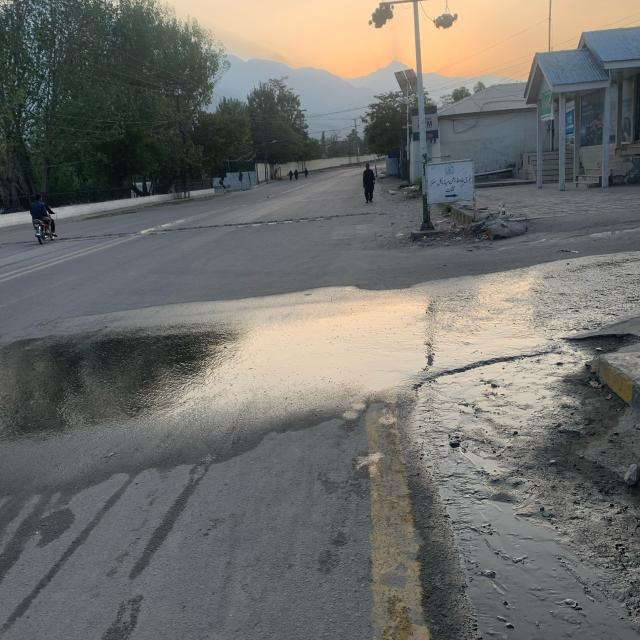Left-Turn: (266, 223, 572, 478)
straight: (132, 155, 367, 339)
